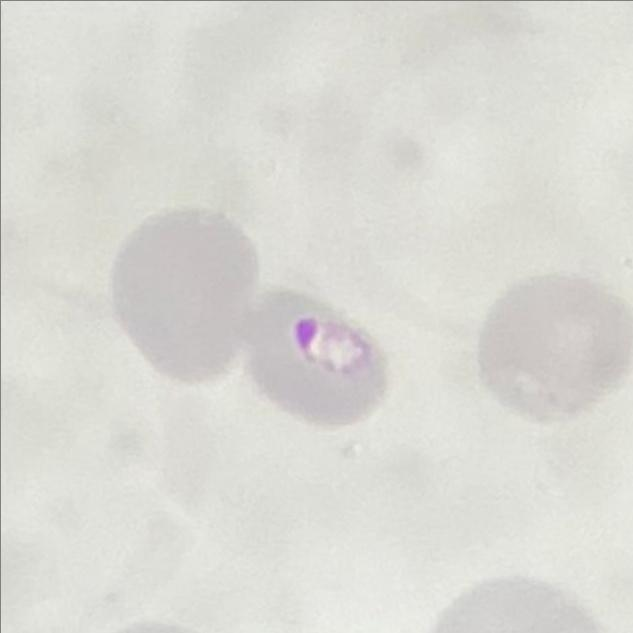Infected: (241, 282, 395, 430)
Uninfected: (110, 200, 255, 386), (480, 274, 633, 420)
